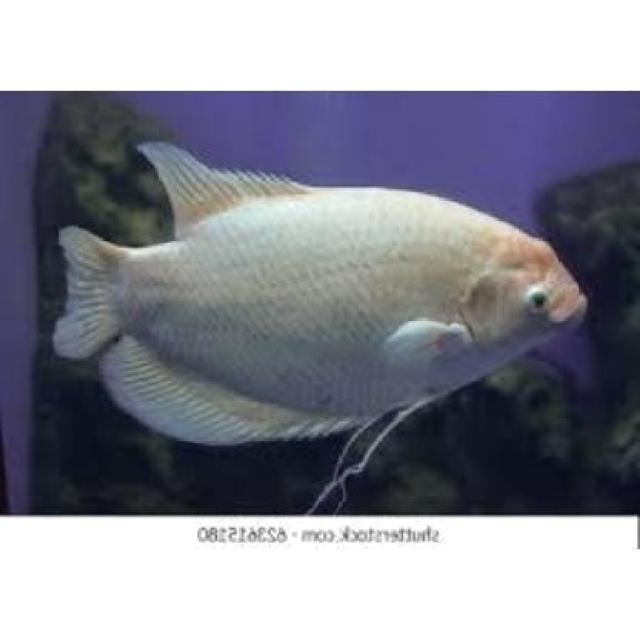gurame: (54, 144, 586, 441)
